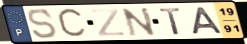A: (190, 6, 225, 36)
C: (55, 6, 89, 40)
N: (120, 6, 158, 38)
S: (26, 8, 60, 40)
T: (159, 7, 184, 36)
Z: (90, 7, 126, 37)
